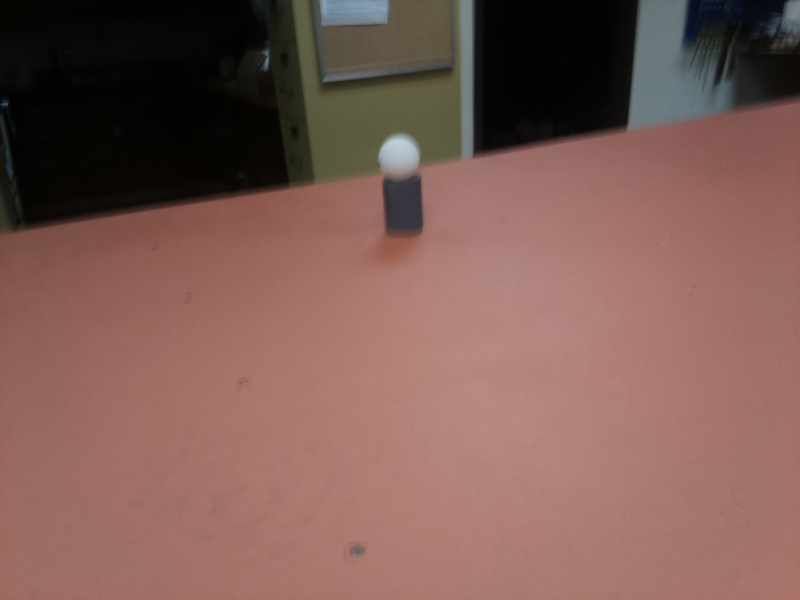obstacle: (371, 136, 430, 236)
